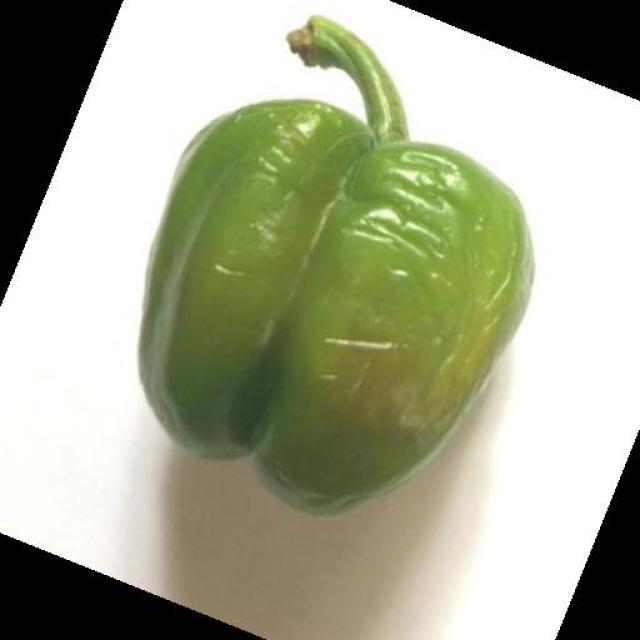Stale_Capsicum: (150, 67, 560, 461)
